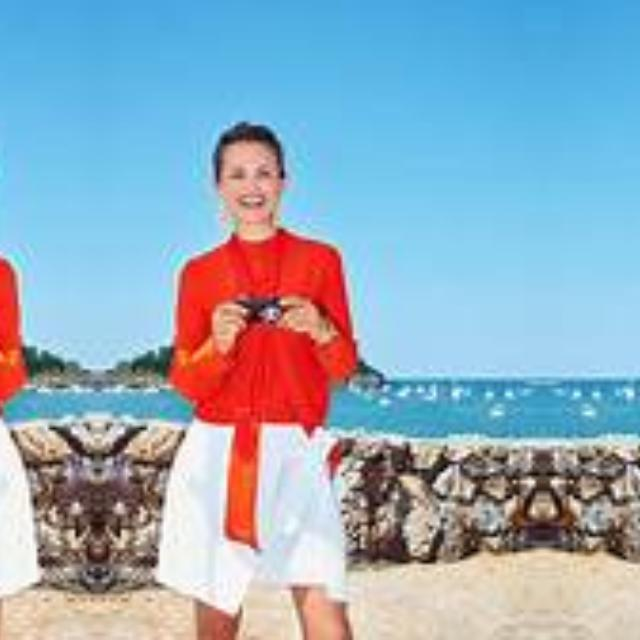person: (148, 100, 406, 640), (0, 100, 46, 640)
